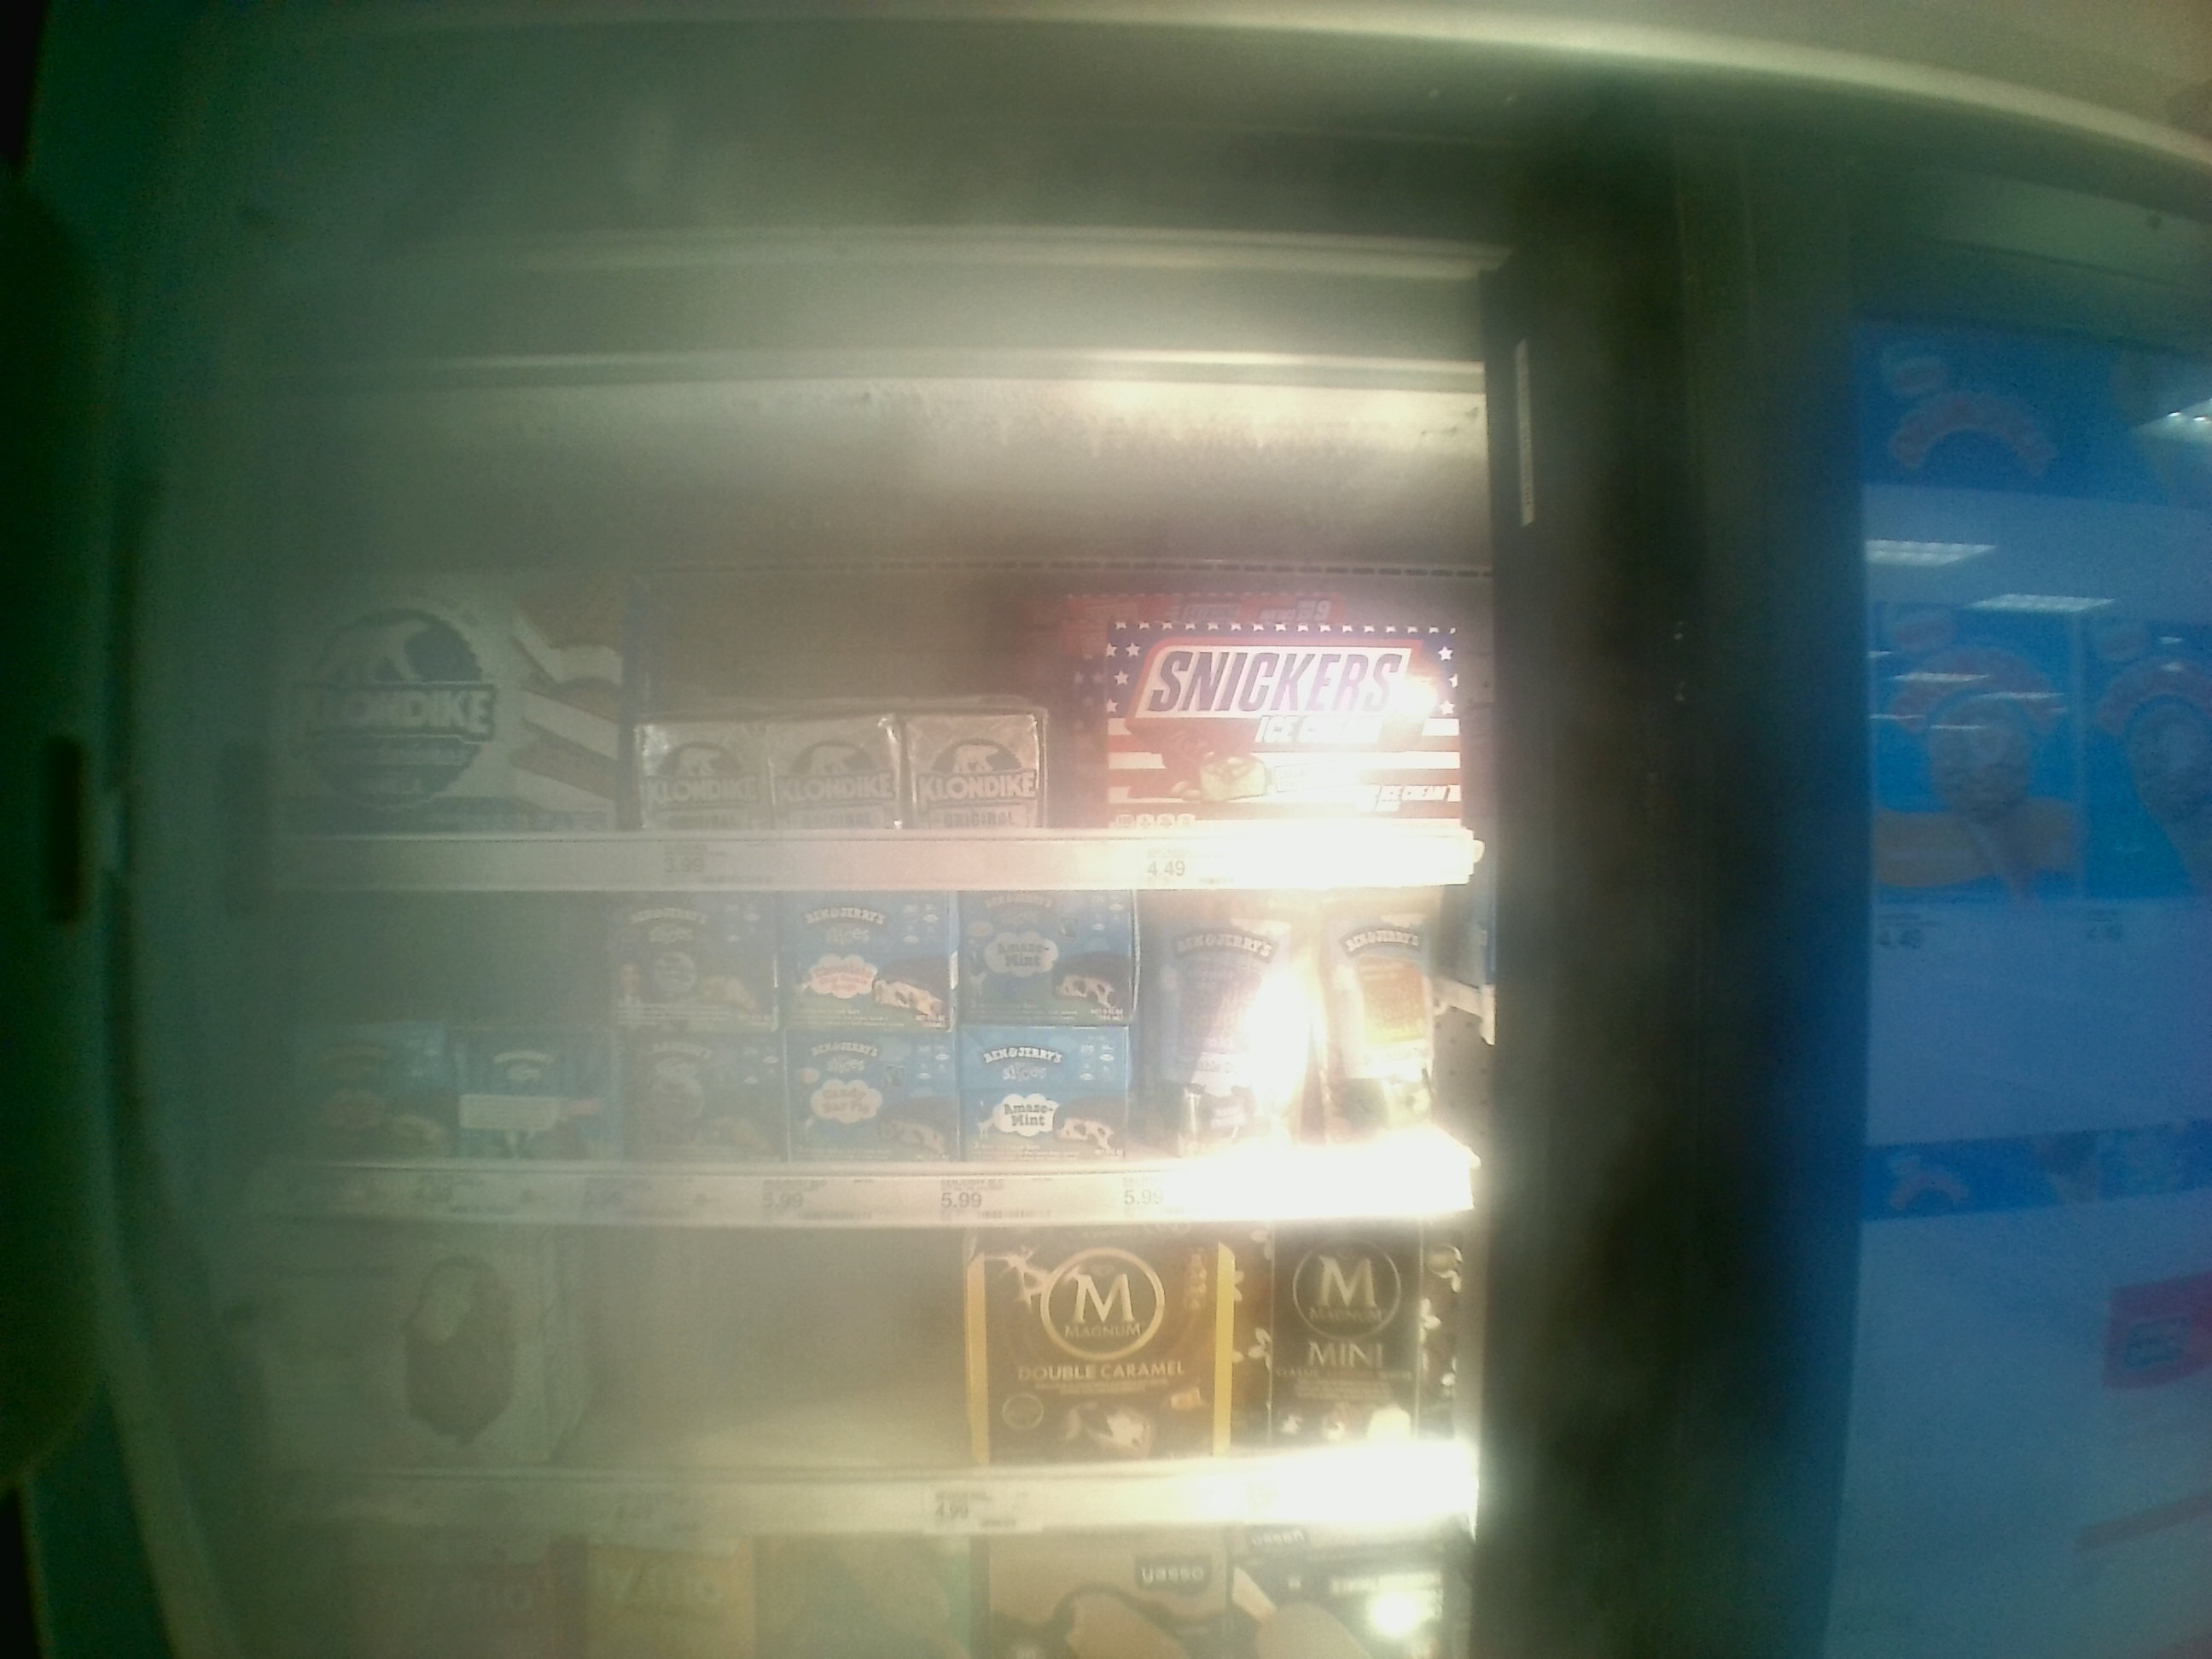ice-cream-shelf: (249, 455, 1493, 884), (246, 882, 1493, 1220), (246, 1218, 1486, 1532)
